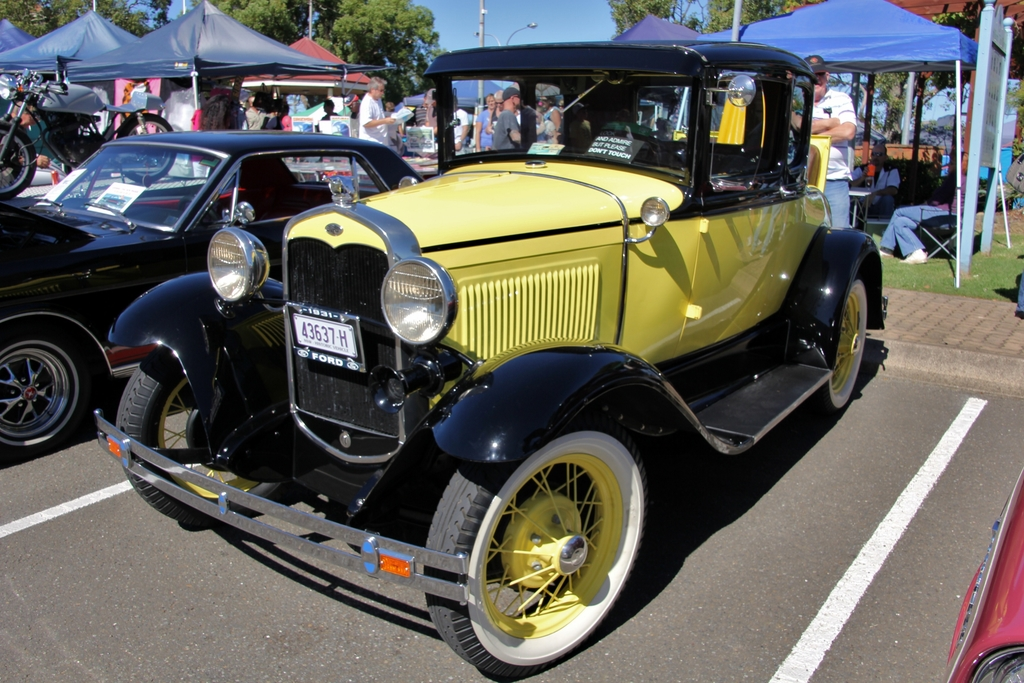cars: (97, 39, 890, 681), (0, 129, 421, 456), (944, 463, 1023, 682)
